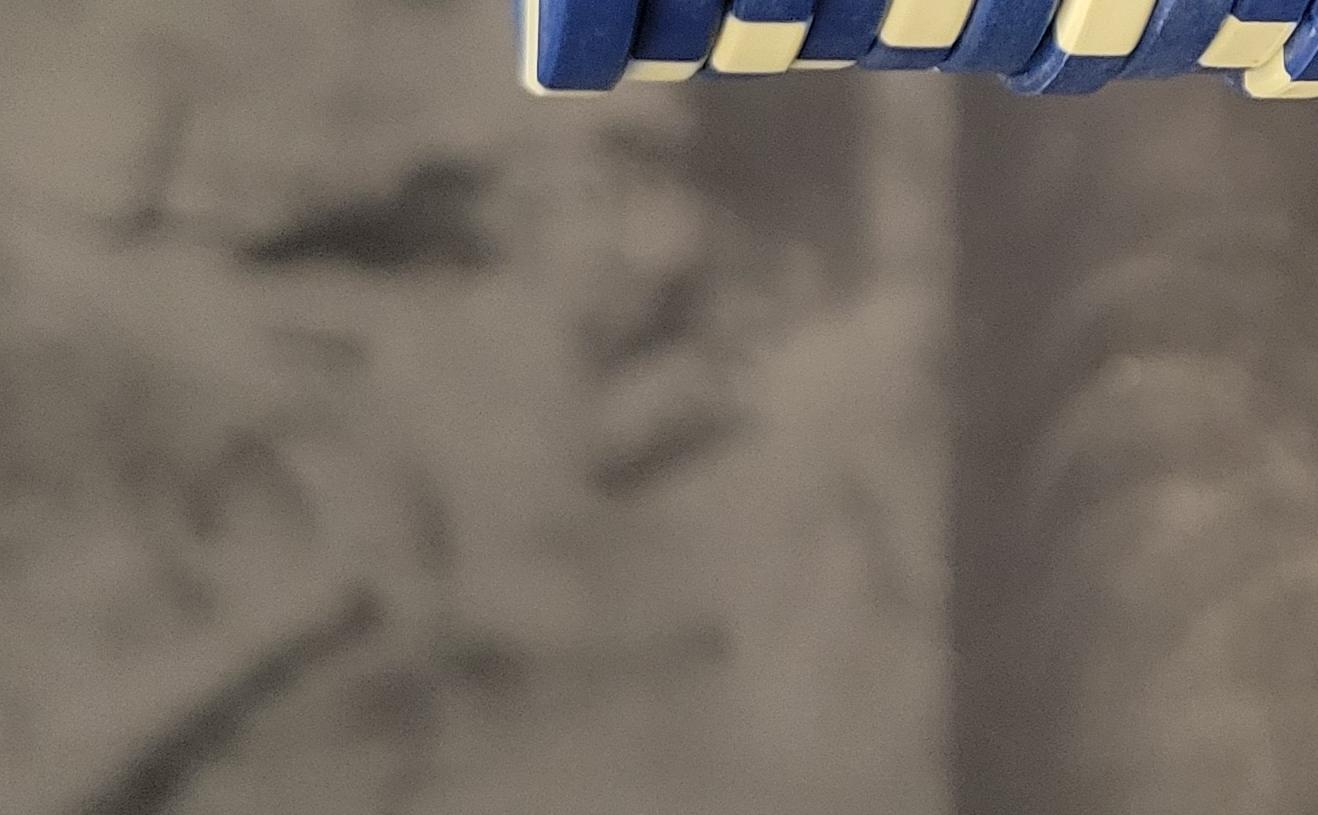Chip: (1, 526, 906, 815)
